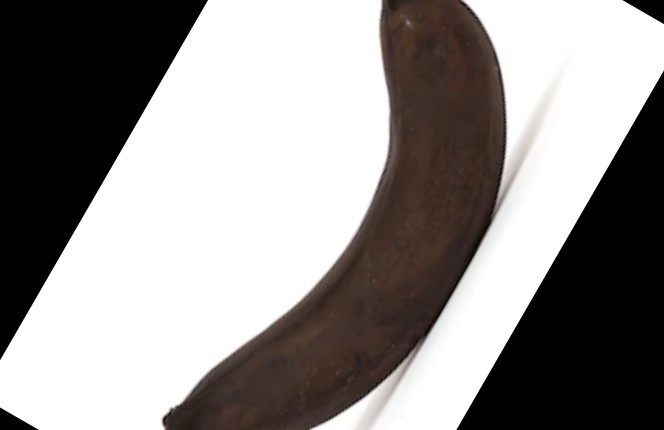rotten_banana: (164, 1, 508, 430)
